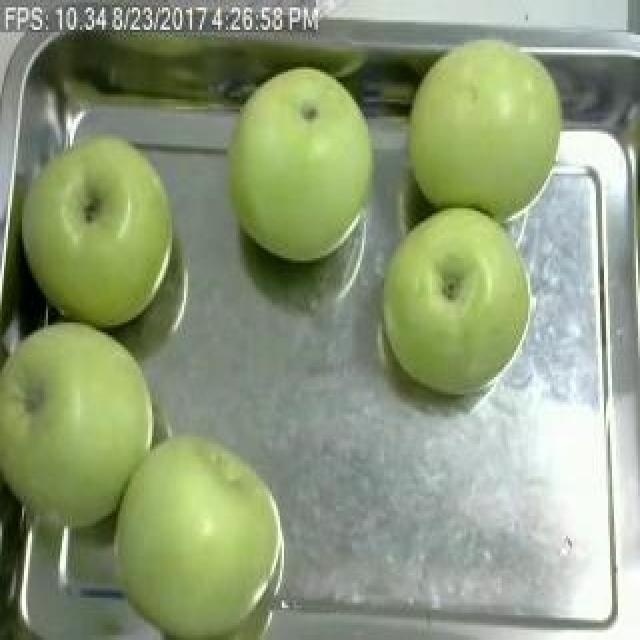Rotten Apple: (101, 424, 295, 640), (366, 201, 550, 394), (2, 127, 180, 320), (0, 327, 170, 516), (410, 22, 564, 228), (233, 71, 379, 264)
